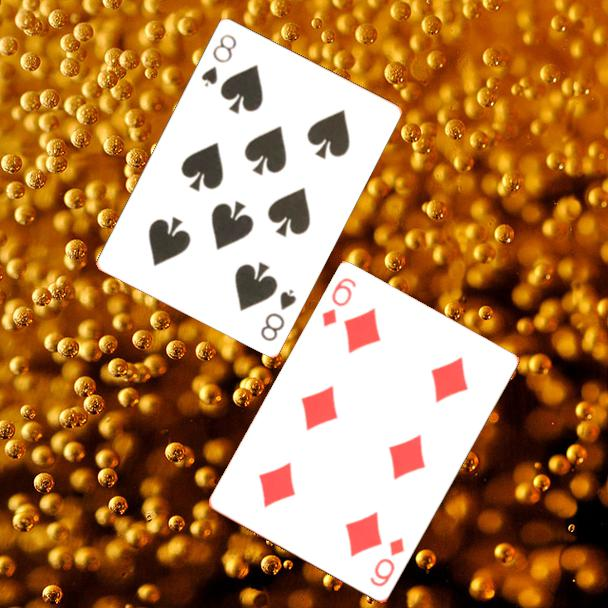d06: (366, 535, 408, 590), (319, 274, 359, 331)
s08: (257, 285, 299, 344), (198, 30, 239, 89)
